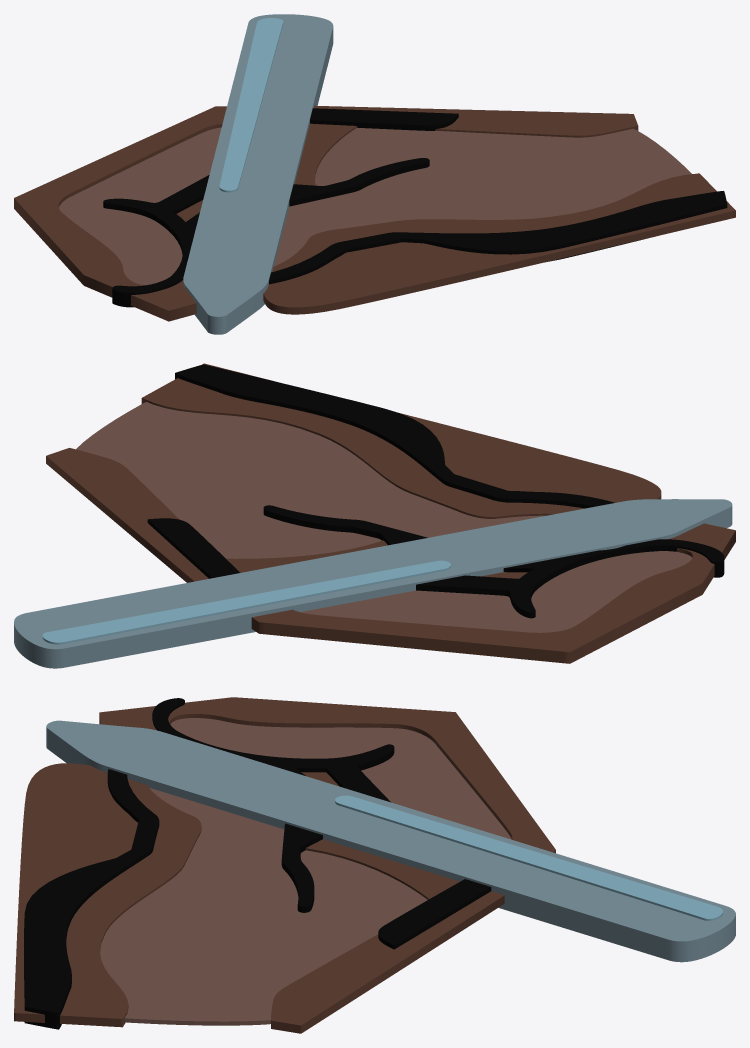
File: emoji_u270d_1f3ff.glb
3 views of the same model, one above another, from view 1: azimuth 30°, elevation 25°; view 2: azimuth 150°, elevation 25°; view 3: azimuth 270°, elevation 25° (orthographic). The views are drawn at different scales.
Visible parts, largest first — view 1: emoji_u270d_1f3ff; view 2: emoji_u270d_1f3ff; view 3: emoji_u270d_1f3ff.
Part boxes in pixels (x1,y1,x2,y2): emoji_u270d_1f3ff: [14, 14, 735, 334]; emoji_u270d_1f3ff: [14, 363, 735, 668]; emoji_u270d_1f3ff: [14, 697, 735, 1033].
Bounding box in the file's own units: 0.0338 × 0.0012 × 0.0316.
